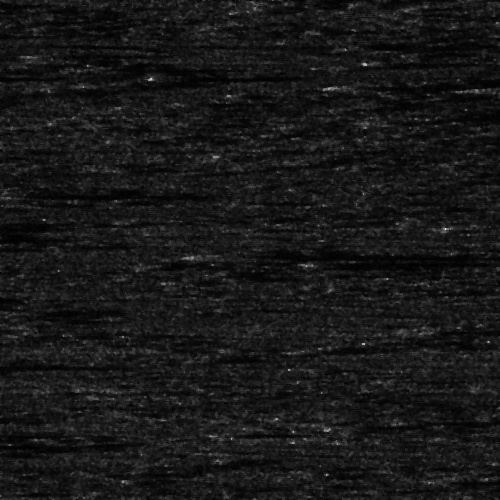object: (117, 71, 180, 82), (443, 82, 500, 93), (89, 60, 142, 69), (301, 256, 332, 265), (0, 188, 28, 197), (25, 51, 66, 56), (213, 248, 224, 257)
shadow: (219, 248, 486, 257), (0, 359, 150, 372), (2, 188, 208, 197), (115, 60, 293, 69), (149, 71, 283, 82), (317, 256, 409, 265), (46, 51, 174, 56), (0, 73, 41, 78), (0, 414, 41, 419)
